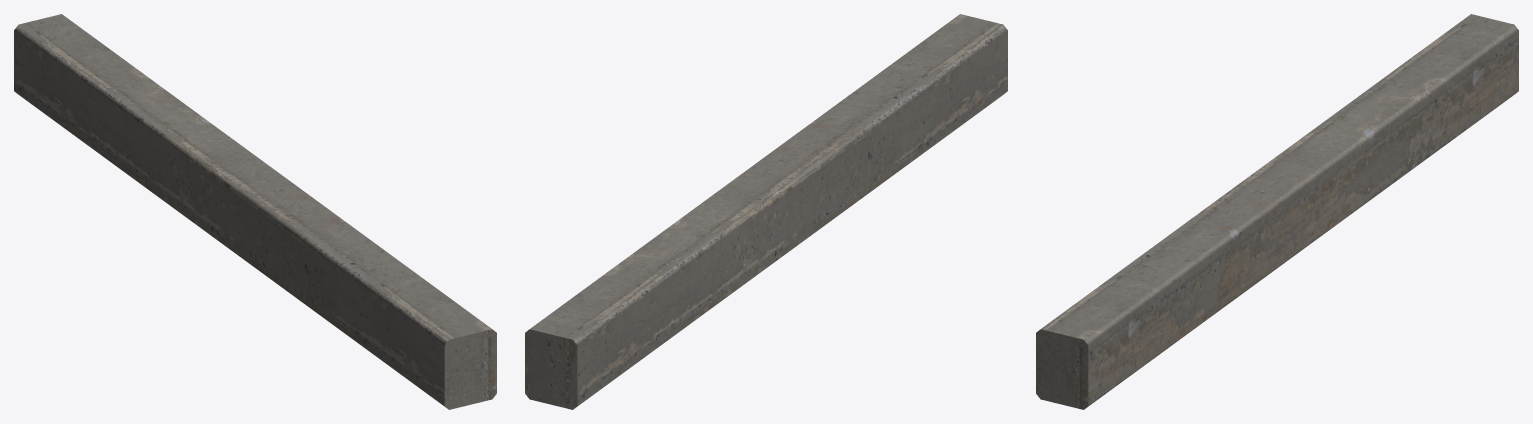
File: SM_Viga.fbx
The picture shows the model from 3 angles, left to right: view 1: azimuth 30°, elevation 25°; view 2: azimuth 150°, elevation 25°; view 3: azimuth 330°, elevation 25°; orthographic projection.
Visible parts, largest first — view 1: SM_Viga; view 2: SM_Viga; view 3: SM_Viga.
Boxes of the visible parts, bbox=[...] form: SM_Viga: bbox=[14, 14, 496, 409]; SM_Viga: bbox=[525, 14, 1007, 409]; SM_Viga: bbox=[1036, 14, 1518, 409].
Bounding box in the file's own units: 35 × 45 × 500.
